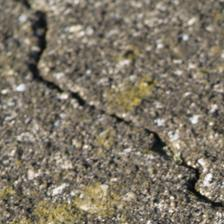Crack: (12, 4, 209, 203)
